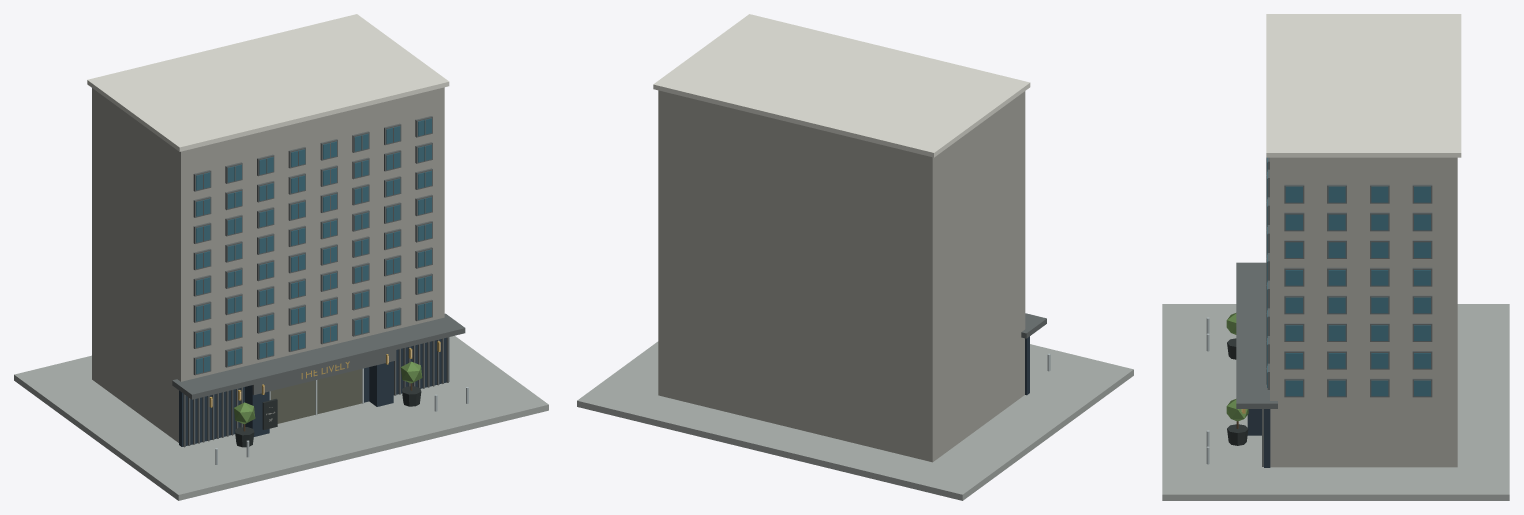
3 views of the same model, side by side, from view 1: azimuth 30°, elevation 25°; view 2: azimuth 150°, elevation 25°; view 3: azimuth 270°, elevation 25° (orthographic). The views are drawn at different scales.
Parts seen in each view (by area): view 1: the-millennials-fukuoka; view 2: the-millennials-fukuoka; view 3: the-millennials-fukuoka.
Boxes of the visible parts, x1,y1,x2,y2 form: the-millennials-fukuoka: [14, 14, 548, 500]; the-millennials-fukuoka: [577, 14, 1133, 500]; the-millennials-fukuoka: [1162, 14, 1509, 500].
Bounding box in the file's own units: 13 × 10.23 × 10.
